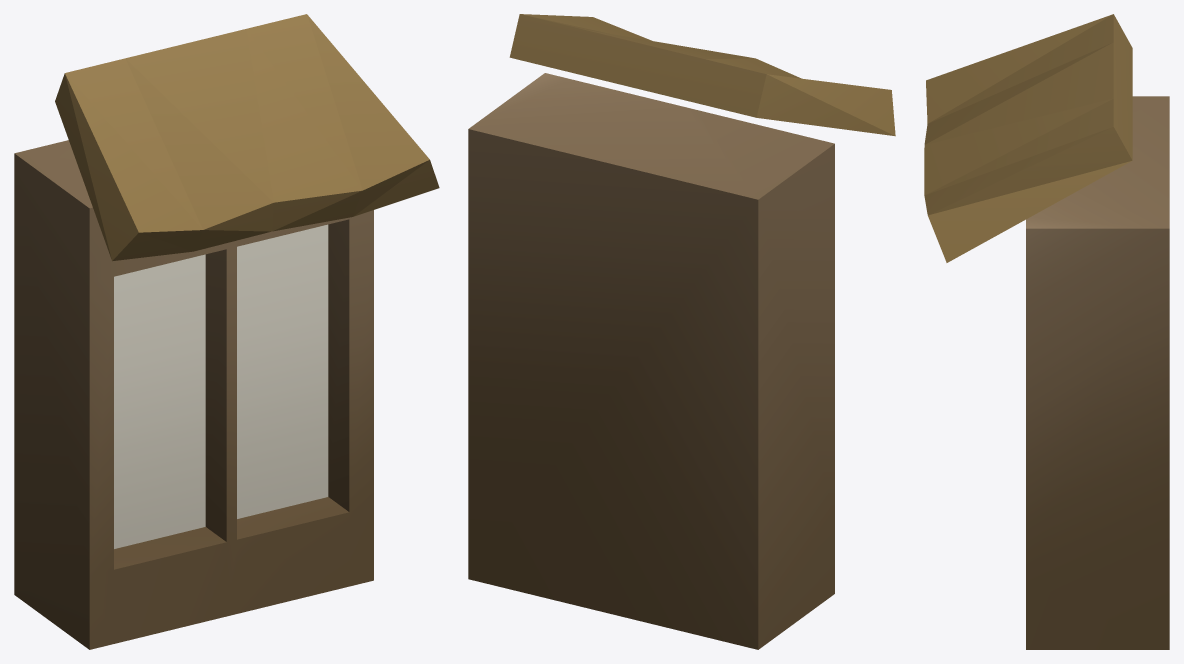
File: Farmhouse_Window.gltf
The picture shows the model from 3 angles, left to right: view 1: azimuth 30°, elevation 25°; view 2: azimuth 150°, elevation 25°; view 3: azimuth 270°, elevation 25°; orthographic projection. The views are drawn at different scales.
Visible parts, largest first — view 1: Farmhouse_Window; view 2: Farmhouse_Window; view 3: Farmhouse_Window.
Part boxes in pixels (x1,y1,x2,y2): Farmhouse_Window: (14,14,439,649); Farmhouse_Window: (468,14,895,649); Farmhouse_Window: (924,14,1169,649).
Bounding box in the file's own units: 0.7762 × 1.22 × 0.5286.
1 material, 1 textured.
